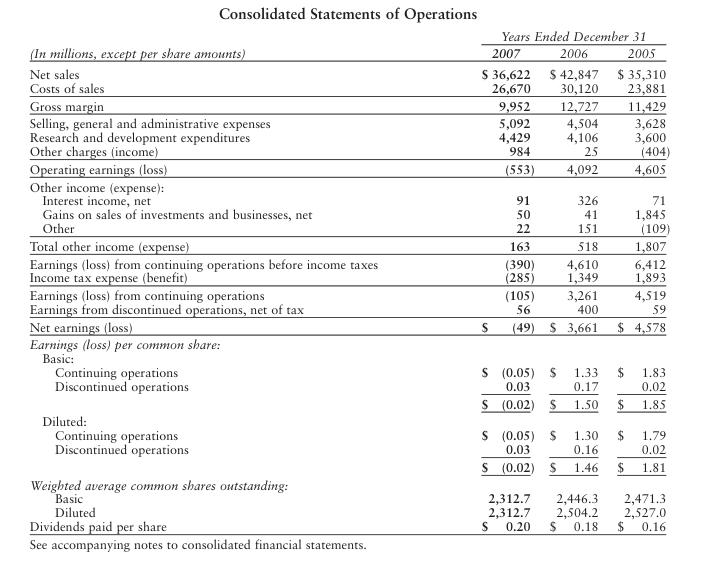table: (28, 28, 669, 533)
table column: (28, 28, 428, 533), (428, 28, 541, 533), (541, 28, 606, 533), (606, 28, 669, 533)
table column header: (28, 28, 669, 62)
table projected row header: (28, 177, 669, 192), (28, 335, 669, 350), (28, 412, 669, 427), (28, 475, 669, 490), (28, 350, 669, 364)
table row: (28, 43, 669, 62), (28, 62, 669, 80), (28, 159, 669, 177), (28, 236, 669, 254), (28, 317, 669, 335), (28, 394, 669, 412), (28, 457, 669, 475), (28, 96, 669, 113), (28, 80, 669, 96), (28, 113, 669, 129), (28, 143, 669, 159), (28, 220, 669, 236), (28, 269, 669, 285), (28, 285, 669, 301), (28, 301, 669, 317), (28, 378, 669, 394), (28, 441, 669, 457), (28, 28, 669, 43), (28, 177, 669, 192), (28, 254, 669, 269), (28, 335, 669, 350), (28, 412, 669, 427), (28, 475, 669, 490), (28, 518, 669, 533), (28, 129, 669, 143), (28, 192, 669, 206), (28, 206, 669, 220), (28, 350, 669, 364), (28, 364, 669, 378), (28, 427, 669, 441), (28, 490, 669, 504), (28, 504, 669, 518)
table spanning cell: (28, 28, 428, 62), (428, 28, 669, 43)
